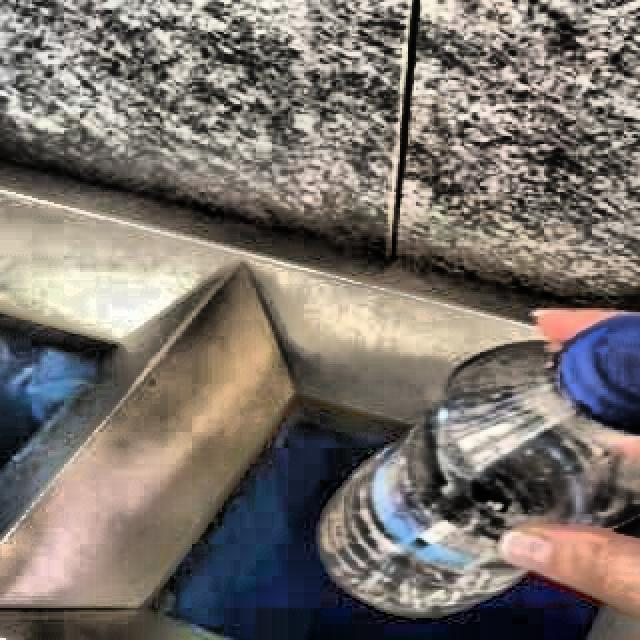plastic: (320, 314, 640, 619)
